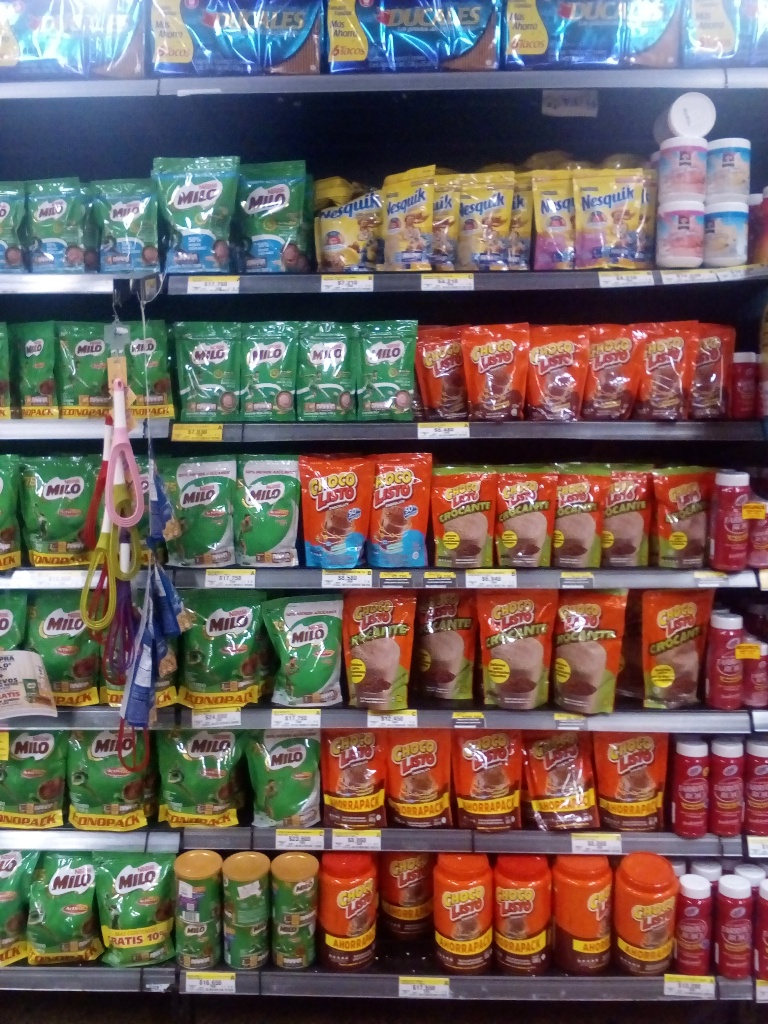COL0170102DYP25000: (435, 463, 495, 570)
COL0170102DYP50000: (337, 588, 417, 713)
COL0170103DYP20000: (410, 324, 466, 418)
COL0170103DYP44000: (318, 729, 386, 832)
COL0170103TRR00100: (428, 848, 496, 978)
COL0170203DYP25000: (354, 321, 420, 420)
COL0170203DYP50000: (19, 454, 100, 571)
COL0170203LAT40000: (175, 850, 220, 921)
COL0170205DYP20000: (25, 175, 89, 275)
COL0170205DYP50000: (153, 452, 237, 566)
COL0170303DYP20000: (316, 182, 383, 278)
COL0170305DYP20000: (524, 170, 576, 269)
COL0170306DYP20000: (378, 171, 447, 274)
